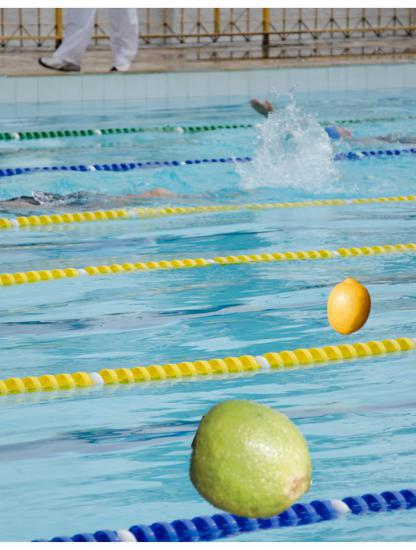Lemon: (320, 277, 378, 335)
Limes: (190, 398, 316, 524)
